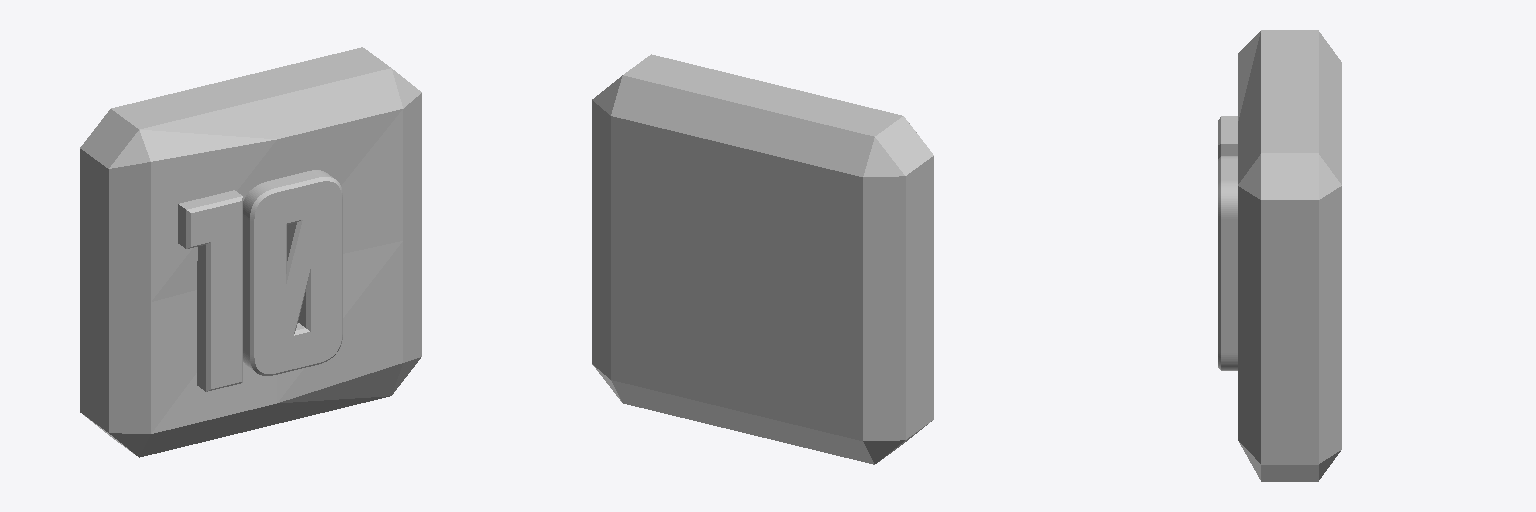
Rendered from Lvl-10.obj.
3 renders of one model, left to right at view 1: azimuth 30°, elevation 25°; view 2: azimuth 150°, elevation 25°; view 3: azimuth 270°, elevation 25°, orthographic.
Parts seen in each view (by area): view 1: lvl-10_Cube.005; view 2: lvl-10_Cube.005; view 3: lvl-10_Cube.005.
Boxes of the visible parts, x1,y1,x2,y2 form: lvl-10_Cube.005: [80, 47, 421, 457]; lvl-10_Cube.005: [592, 54, 933, 464]; lvl-10_Cube.005: [1218, 30, 1341, 481].
Size of the model in its own units: 1.28 by 1.28 by 0.4393.